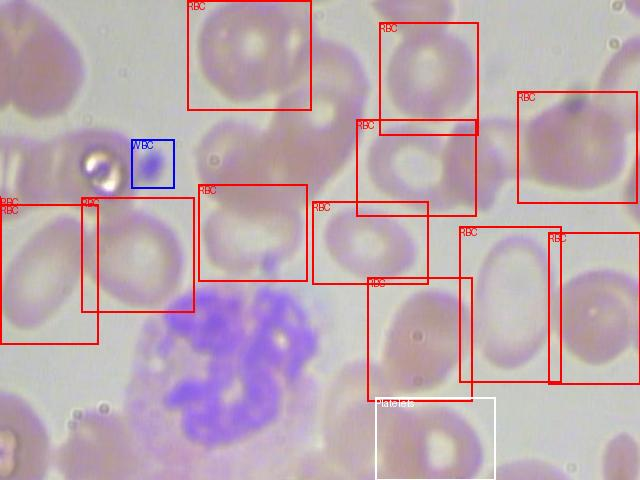Platelets: (375, 397, 495, 480)
RBC: (459, 226, 561, 382), (548, 232, 640, 384), (0, 204, 98, 344), (187, 0, 311, 110), (517, 91, 637, 203), (367, 277, 472, 401), (81, 197, 194, 312), (356, 119, 476, 216), (379, 22, 478, 135), (198, 184, 307, 281), (312, 201, 428, 284)
WBC: (131, 139, 174, 188)
